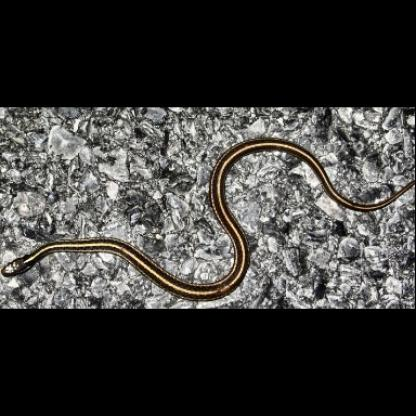Snake: (0, 138, 416, 302)
